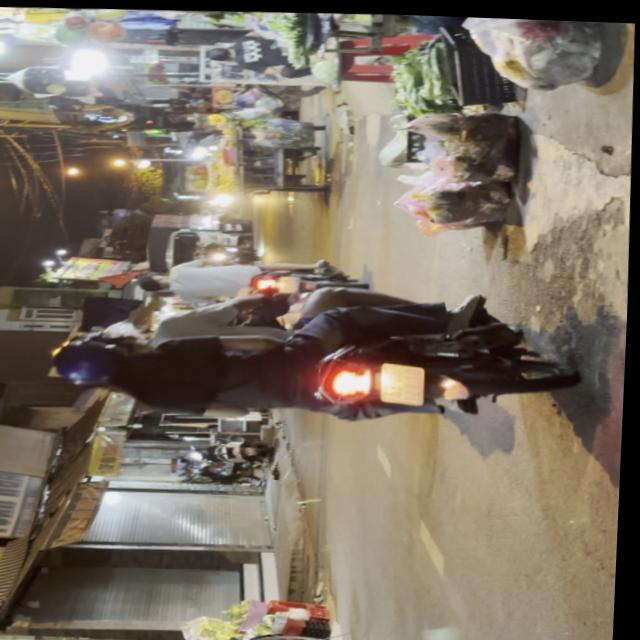helmet: (50, 335, 146, 391)
licenseplate: (44, 270, 585, 437)
nohelmet: (381, 360, 427, 403)
